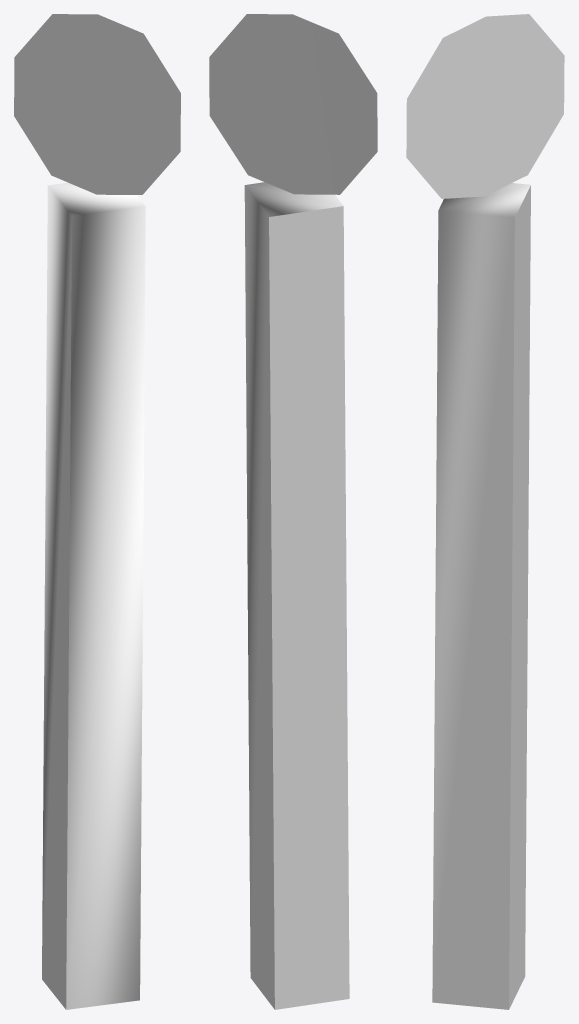
Rendered from Road_LightReflector.fbx.
The picture shows the model from 3 angles, left to right: view 1: azimuth 30°, elevation 25°; view 2: azimuth 210°, elevation 25°; view 3: azimuth 270°, elevation 25°; orthographic projection.
Visible parts, largest first — view 1: Road_LightReflector; view 2: Road_LightReflector; view 3: Road_LightReflector.
Boxes of the visible parts, x1,y1,x2,y2 form: Road_LightReflector: [14, 14, 180, 1009]; Road_LightReflector: [209, 14, 377, 1009]; Road_LightReflector: [406, 14, 564, 1009].
Bounding box in the file's own units: 0.0955 × 0.9399 × 0.1376.
